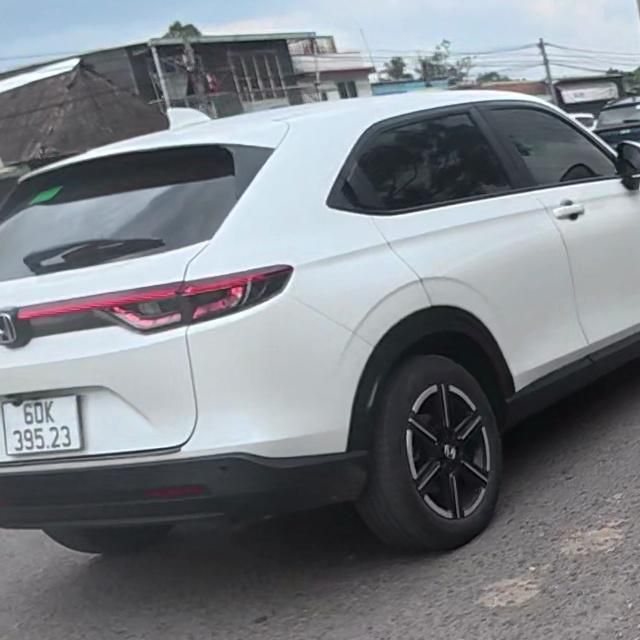license-plate: (2, 394, 86, 457)
